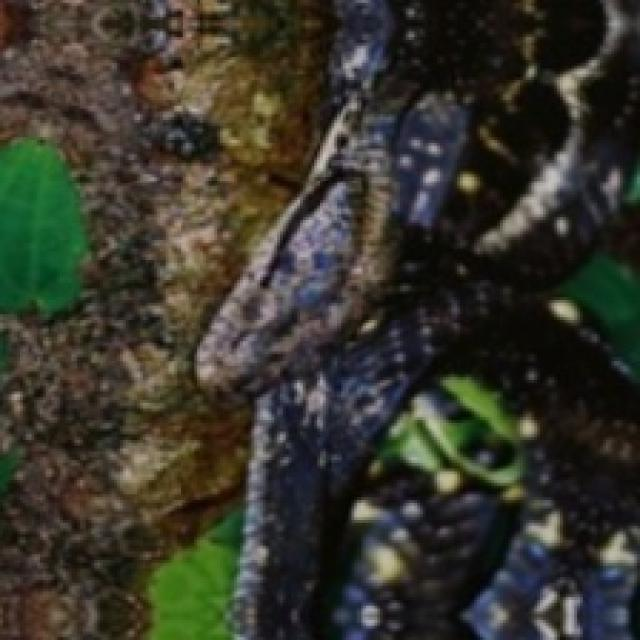dog-toothed cat snake: (197, 0, 637, 637)
